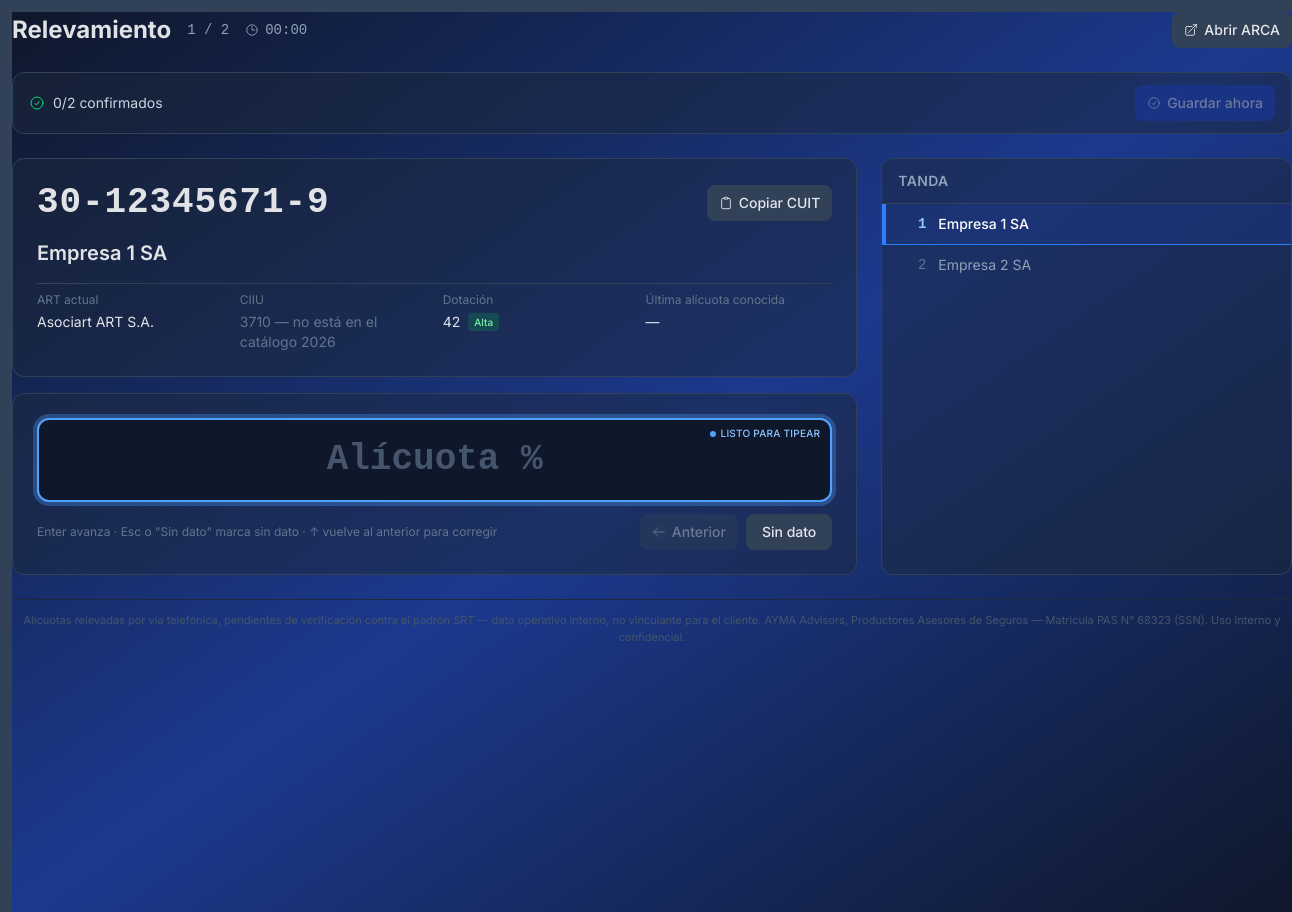
Test case: ArtRelevamientoAlicuotas › Enter con una alícuota válida avanza a la siguiente empresa
Type "5,96" into the field with placeholder "Alícuota %".
click(435, 460); type("5,96")  # box top-left (37, 418), bottom-right (832, 502)
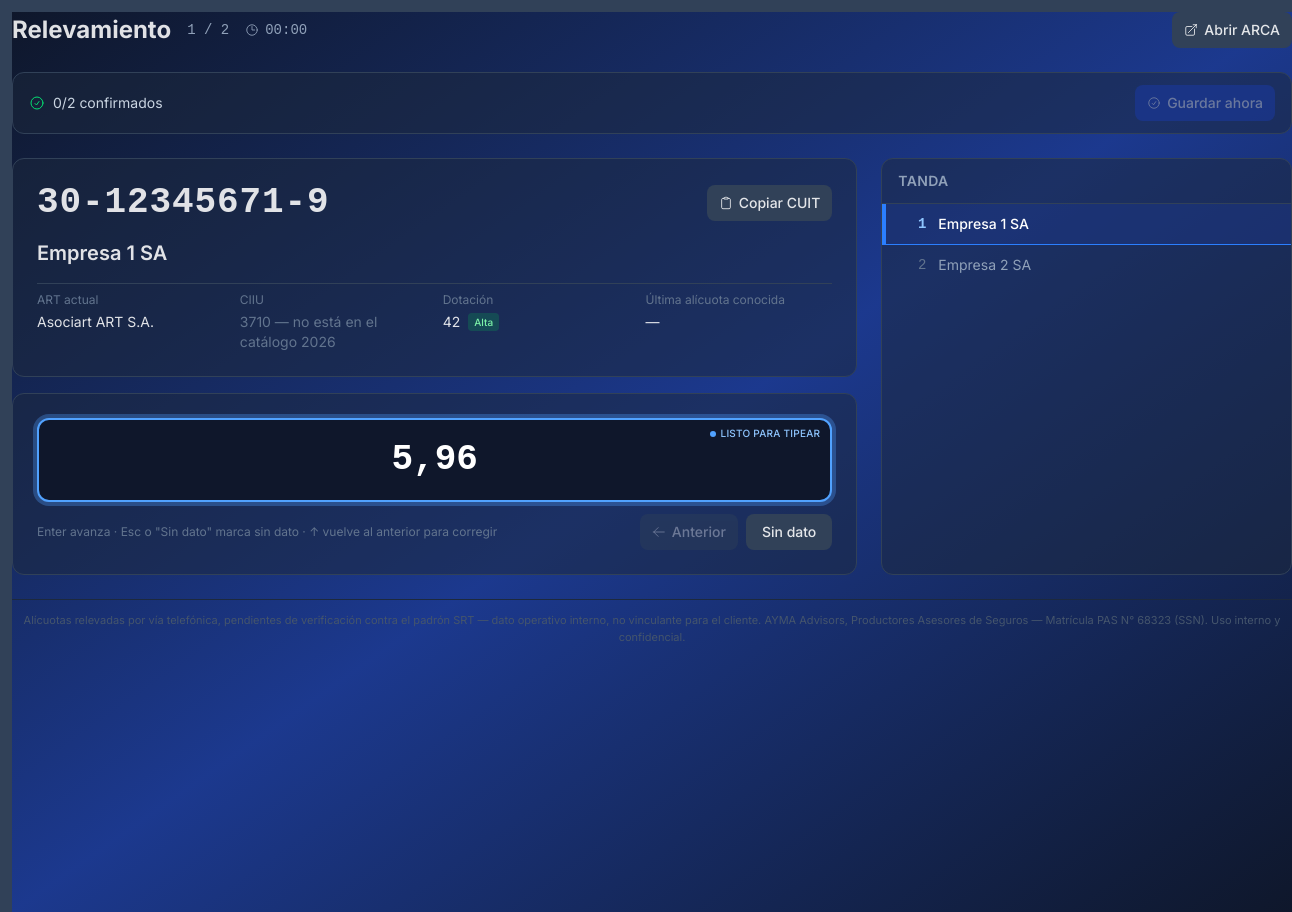
Press Enter in the field, box top-left (37, 418), bottom-right (832, 502)
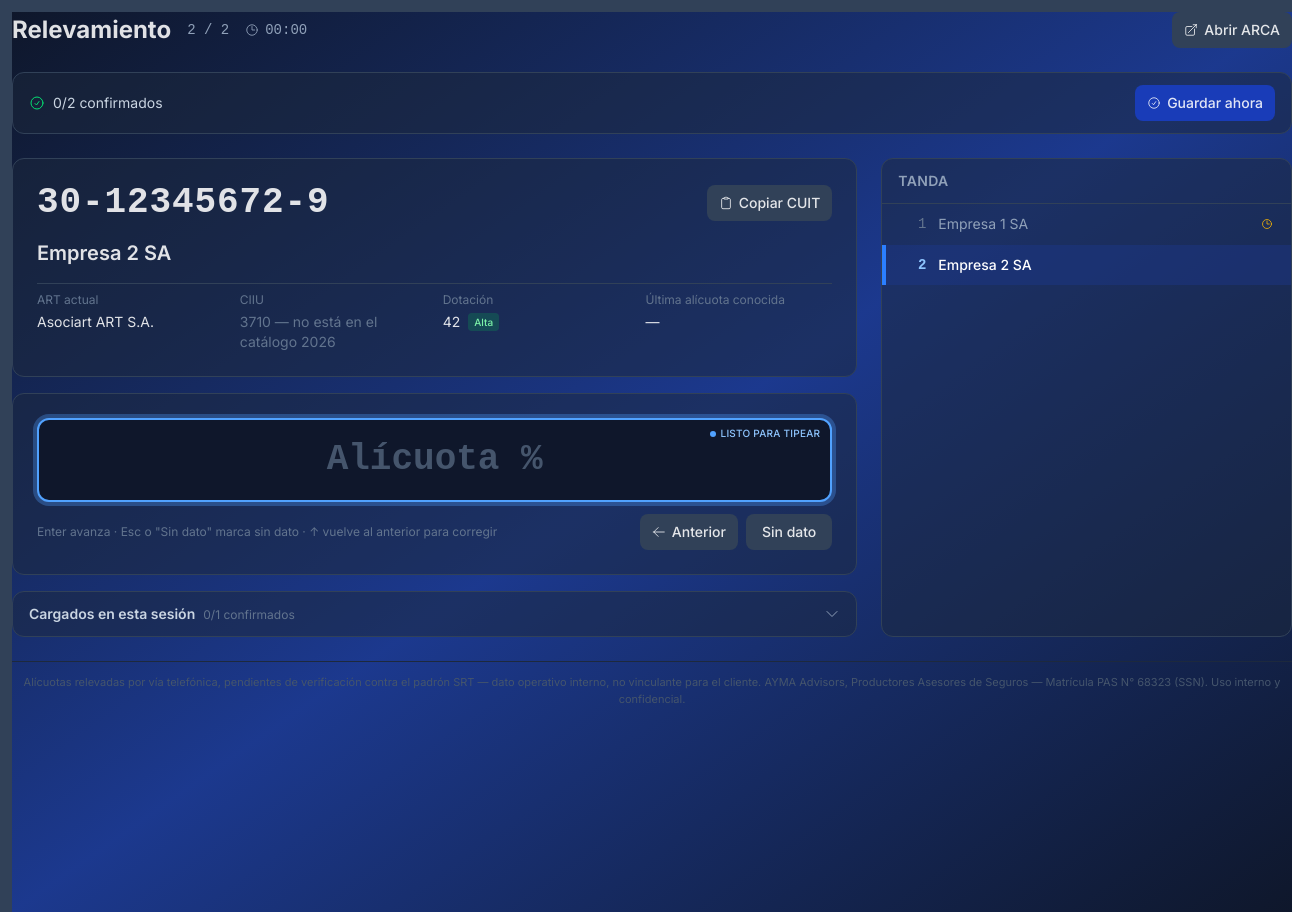
Expected: the text "Empresa 2 SA" is shown, top-left (37, 241), bottom-right (171, 265)
Expected: the text "2 / 2" is shown, top-left (187, 20), bottom-right (229, 40)
Expected: the field with placeholder "Alícuota %" is empty, top-left (37, 418), bottom-right (832, 502)
